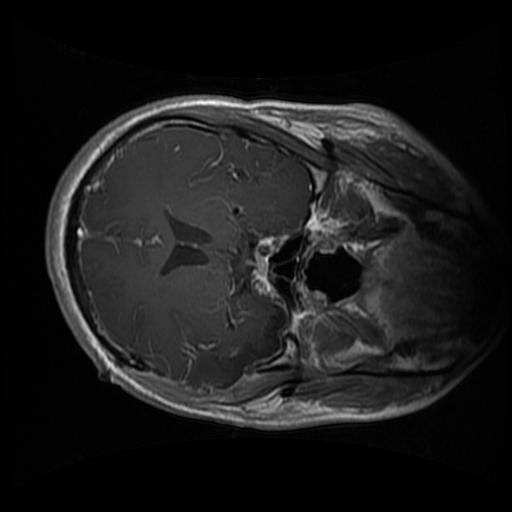glioma: (183, 315, 286, 391)
